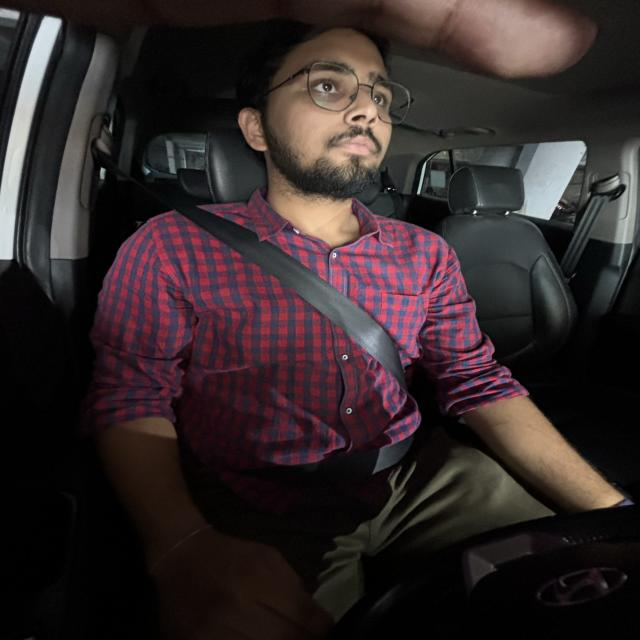seatbelt: (76, 103, 464, 503)
